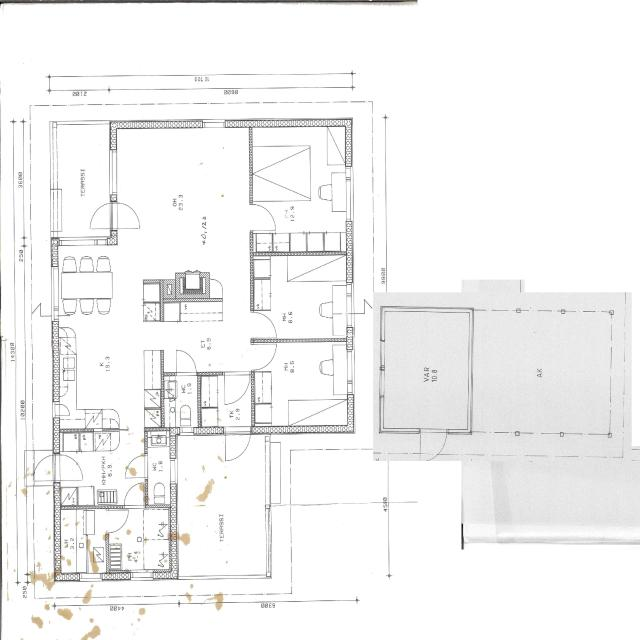door: (221, 371, 251, 409), (247, 200, 279, 234), (248, 310, 280, 344), (223, 427, 252, 464), (112, 199, 144, 232), (55, 451, 86, 484), (86, 200, 115, 232), (172, 346, 200, 378), (251, 341, 279, 371), (105, 506, 132, 535), (122, 480, 148, 509), (122, 452, 148, 480), (32, 452, 56, 480), (314, 356, 336, 378), (57, 402, 72, 418)
window: (394, 302, 468, 316), (105, 143, 122, 202), (342, 168, 358, 227), (48, 265, 62, 318), (58, 235, 109, 248), (344, 281, 356, 331), (128, 570, 156, 583), (201, 118, 227, 131), (79, 572, 104, 584)
zone: (113, 129, 247, 260), (54, 292, 158, 426), (251, 126, 350, 248), (380, 309, 472, 433), (252, 256, 350, 342), (52, 119, 114, 242), (254, 342, 338, 431), (54, 440, 148, 508), (107, 506, 173, 575), (59, 507, 109, 579), (163, 374, 201, 432), (145, 441, 174, 508), (333, 343, 355, 398), (248, 309, 281, 343), (200, 374, 227, 415)
